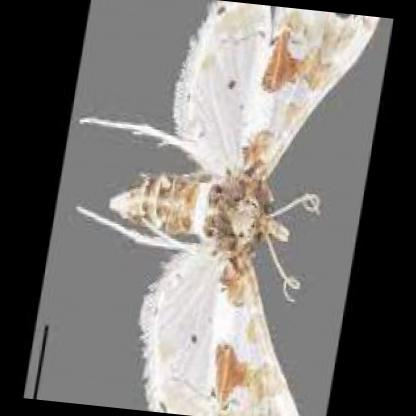leucinodes: (82, 6, 378, 416)
